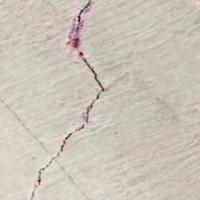crack: (19, 0, 111, 199)
